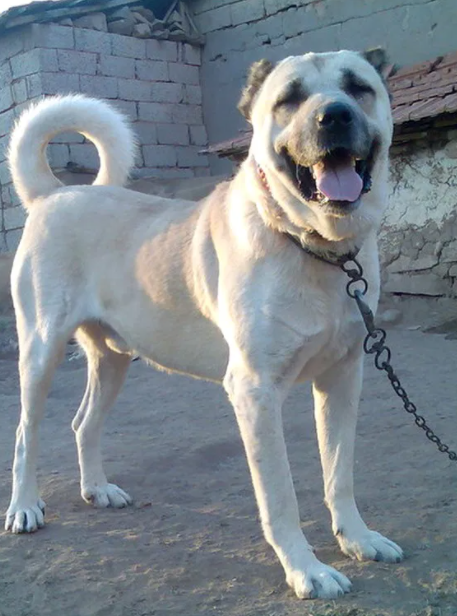dog: (6, 43, 400, 555)
